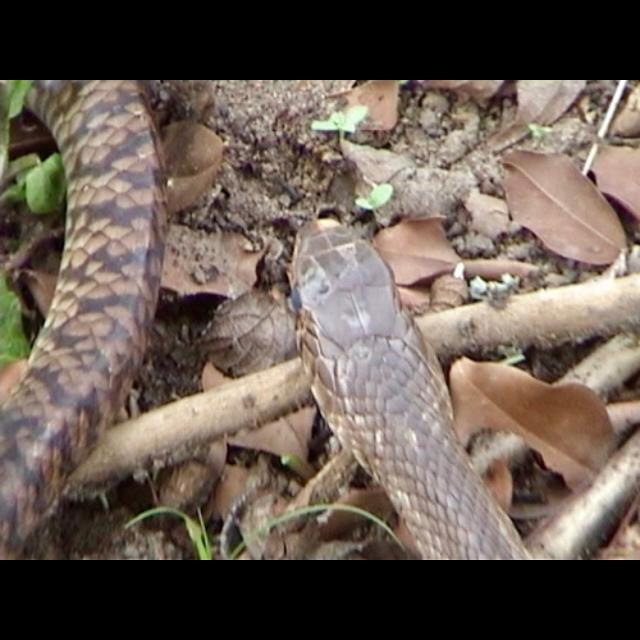snake: (278, 215, 542, 560), (1, 80, 177, 558)
